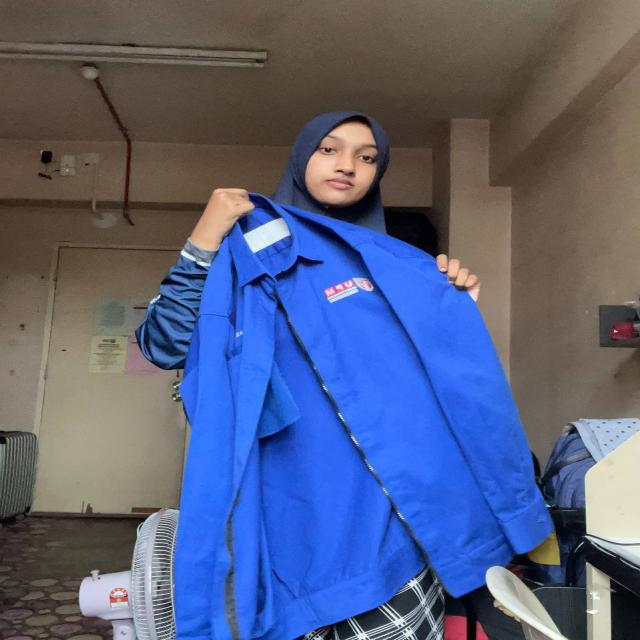person_without_labcoat: (136, 111, 552, 640)
